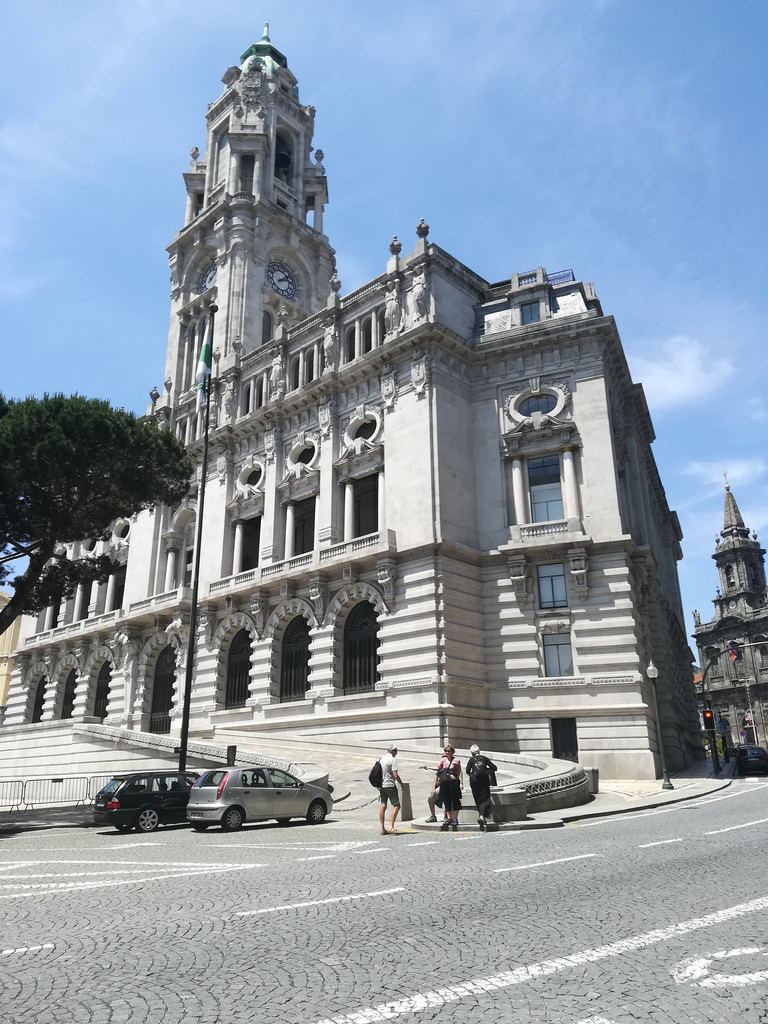camara: (0, 18, 707, 780)
